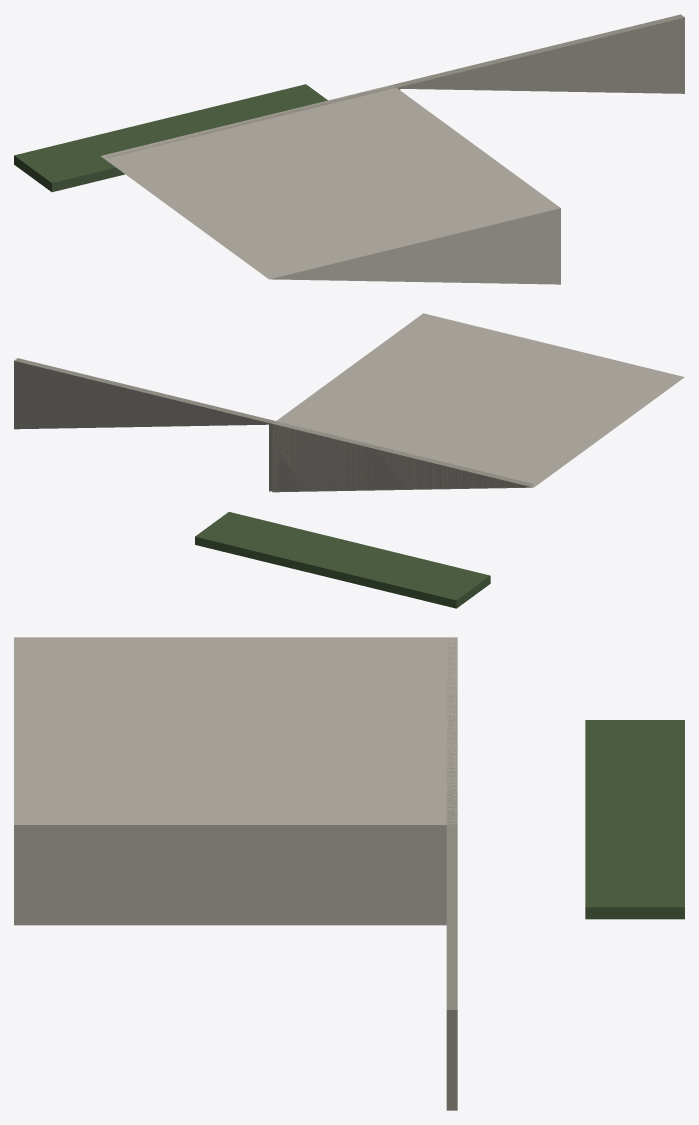
Rendered from a10-slipway-ramp.glb.
3 views of the same model, one above another, from view 1: azimuth 30°, elevation 25°; view 2: azimuth 150°, elevation 25°; view 3: azimuth 270°, elevation 25° (orthographic). The views are drawn at different scales.
Parts seen in each view (by area): view 1: part0, part1, part2; view 2: part0, part1, part2; view 3: part0, part2, part1.
Part boxes in pixels (<box>): part0: <box>101,85,560,284</box>; part1: <box>106,14,684,157</box>; part2: <box>14,84,327,192</box>; part0: <box>272,313,684,492</box>; part1: <box>14,358,533,491</box>; part2: <box>195,512,490,608</box>; part0: <box>14,637,457,925</box>; part2: <box>585,720,684,919</box>; part1: <box>446,639,457,1110</box>.
Bounding box in the file's own units: 7950 × 1000 × 6050.
